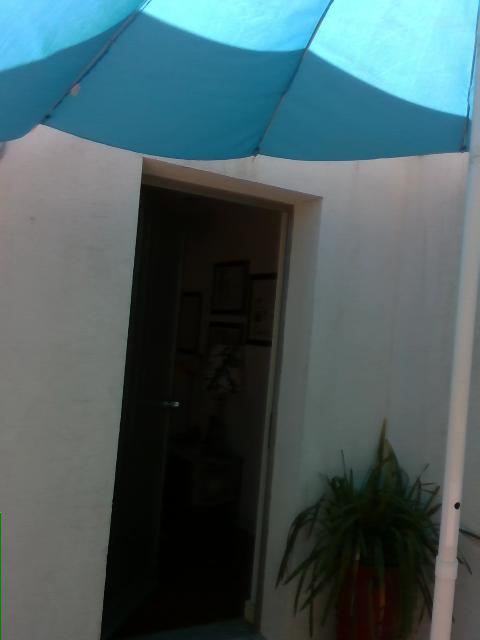semi_door: (101, 163, 294, 639)
